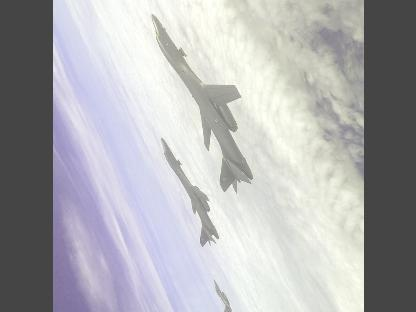AV8B: (150, 13, 252, 195), (160, 138, 218, 248)
F15: (212, 280, 235, 311)
